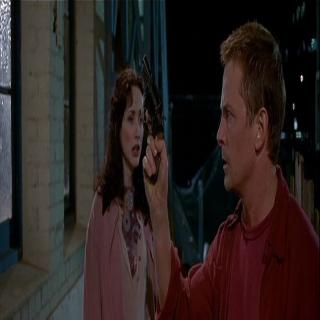gun: (138, 49, 168, 191)
